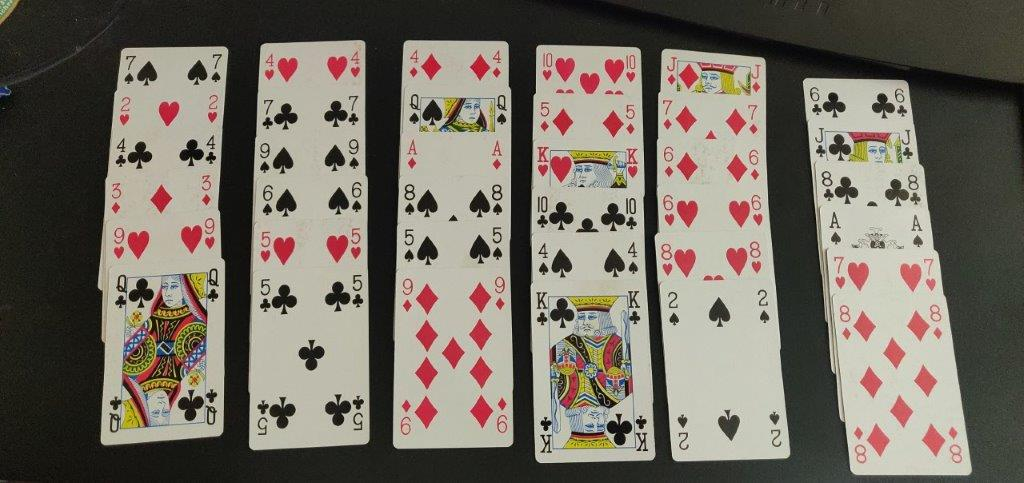10C: (624, 196, 640, 231), (535, 195, 550, 230)
10H: (624, 53, 639, 86), (541, 50, 554, 82)
2H: (202, 92, 220, 125), (117, 94, 135, 125)
2S: (664, 290, 683, 329), (755, 287, 773, 327)
3D: (197, 172, 216, 208), (107, 180, 125, 217)
4C: (113, 136, 129, 170), (205, 132, 219, 165)
4D: (407, 48, 421, 80), (491, 48, 503, 81)
4H: (262, 51, 278, 82), (349, 49, 362, 79)
4S: (536, 241, 551, 278), (627, 239, 640, 277)
5C: (350, 272, 366, 310), (258, 277, 273, 315)
5D: (537, 100, 552, 135), (624, 103, 637, 137)
5H: (349, 226, 364, 264), (258, 229, 273, 264)
5S: (489, 224, 506, 265), (400, 225, 417, 263)
6C: (807, 85, 828, 118), (892, 87, 912, 120)
6D: (659, 143, 678, 183), (746, 146, 764, 183)
6H: (748, 192, 767, 227), (660, 192, 678, 228)
6S: (260, 183, 275, 217), (349, 180, 364, 214)
7C: (345, 94, 363, 128), (261, 97, 274, 131)
7D: (659, 96, 677, 132), (746, 102, 762, 138)
7H: (921, 258, 939, 294), (832, 255, 848, 290)
7S: (119, 53, 137, 85), (208, 52, 225, 83)
8C: (904, 173, 925, 210), (818, 168, 837, 202)
8D: (836, 303, 855, 346), (929, 303, 946, 343)
8H: (748, 239, 766, 278), (659, 241, 676, 279)
8S: (400, 180, 417, 218), (490, 181, 506, 218)
9D: (399, 275, 415, 314), (492, 275, 508, 312)
9H: (203, 214, 220, 252), (111, 226, 127, 261)
9S: (257, 141, 272, 175), (347, 136, 361, 172)
AD: (404, 135, 421, 173), (489, 137, 506, 174)
AS: (907, 211, 928, 249), (826, 209, 847, 247)
JC: (811, 125, 830, 161), (899, 127, 916, 162)
JD: (663, 55, 679, 87), (749, 63, 764, 96)
KC: (627, 289, 643, 328), (535, 290, 550, 326)
KH: (625, 146, 642, 180), (536, 144, 550, 178)
QC: (206, 265, 222, 307), (113, 273, 129, 311)
QS: (495, 93, 509, 128), (407, 92, 420, 126)
